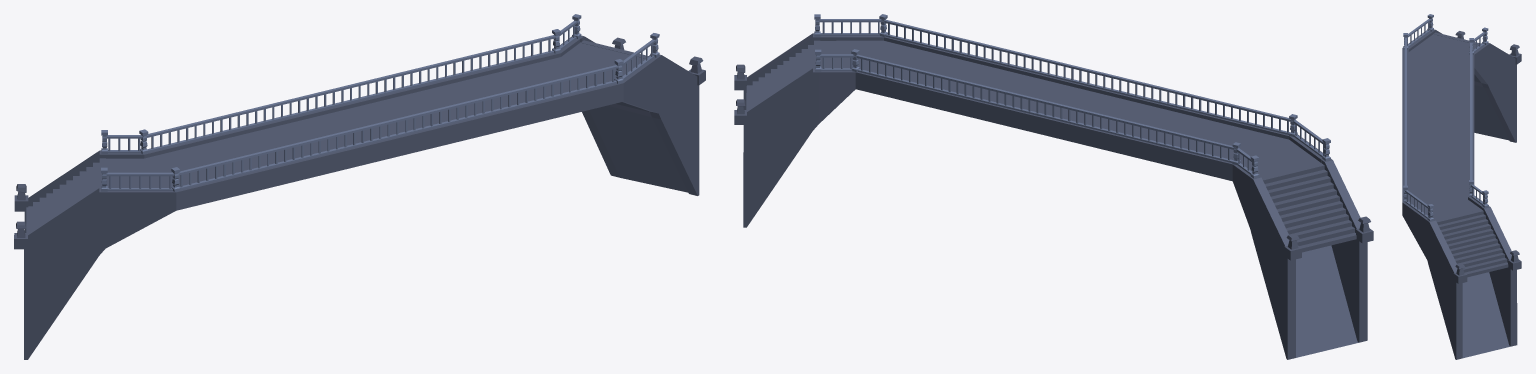
The model's file is bridge_lakeveil2.fbx.
The picture shows the model from 3 angles, left to right: view 1: azimuth 30°, elevation 25°; view 2: azimuth 150°, elevation 25°; view 3: azimuth 270°, elevation 25°; orthographic projection. The views are drawn at different scales.
Visible parts, largest first — view 1: Plane.003, Cube.078, stairs handhail big.004, stairs handhail big.003, railing.010, railing.015, Cube.079, stairs.007, railing.001; view 2: Plane.003, stairs handhail big.003, Cube.079, stairs handhail big.004, stairs.007, railing.010, railing.015, Cube.078, stairs.008, railing.014; view 3: Plane.003, stairs handhail big.004, stairs handhail big.003, stairs.008, Cube.078, Cube.079, railing.010, railing.015, railing.014, railing.001, stairs.007, railing.012 (+1 smaller).
Boxes of the visible parts, left/top/right/bottom form: Plane.003: left=106, top=42, right=644, bottom=187; Cube.078: left=105, top=55, right=658, bottom=248; stairs handhail big.004: left=580, top=35, right=705, bottom=195; stairs handhail big.003: left=14, top=150, right=105, bottom=359; railing.010: left=178, top=65, right=618, bottom=189; railing.015: left=146, top=35, right=555, bottom=151; Cube.079: left=106, top=36, right=580, bottom=158; stairs.007: left=26, top=158, right=105, bottom=234; railing.001: left=106, top=172, right=174, bottom=190; Plane.003: left=820, top=40, right=1320, bottom=177; stairs handhail big.003: left=1250, top=159, right=1373, bottom=359; Cube.079: left=818, top=71, right=1252, bottom=228; stairs handhail big.004: left=734, top=33, right=818, bottom=227; stairs.007: left=1262, top=163, right=1356, bottom=252; railing.010: left=884, top=19, right=1290, bottom=134; railing.015: left=856, top=54, right=1234, bottom=162; Cube.078: left=819, top=36, right=1322, bottom=163; stairs.008: left=746, top=40, right=820, bottom=111; railing.014: left=819, top=19, right=882, bottom=35; Plane.003: left=1408, top=34, right=1480, bottom=220; stairs handhail big.004: left=1427, top=206, right=1521, bottom=359; stairs handhail big.003: left=1432, top=29, right=1521, bottom=142; stairs.008: left=1436, top=209, right=1508, bottom=277; Cube.078: left=1402, top=30, right=1433, bottom=259; Cube.079: left=1468, top=43, right=1487, bottom=209; railing.010: left=1404, top=37, right=1406, bottom=185; railing.015: left=1470, top=42, right=1472, bottom=179; railing.014: left=1405, top=190, right=1428, bottom=218; railing.001: left=1407, top=19, right=1430, bottom=47; stairs.007: left=1433, top=32, right=1480, bottom=82; railing.012: left=1473, top=32, right=1485, bottom=52.
Size of the model in its own units: 4216 by 1100 by 893.
